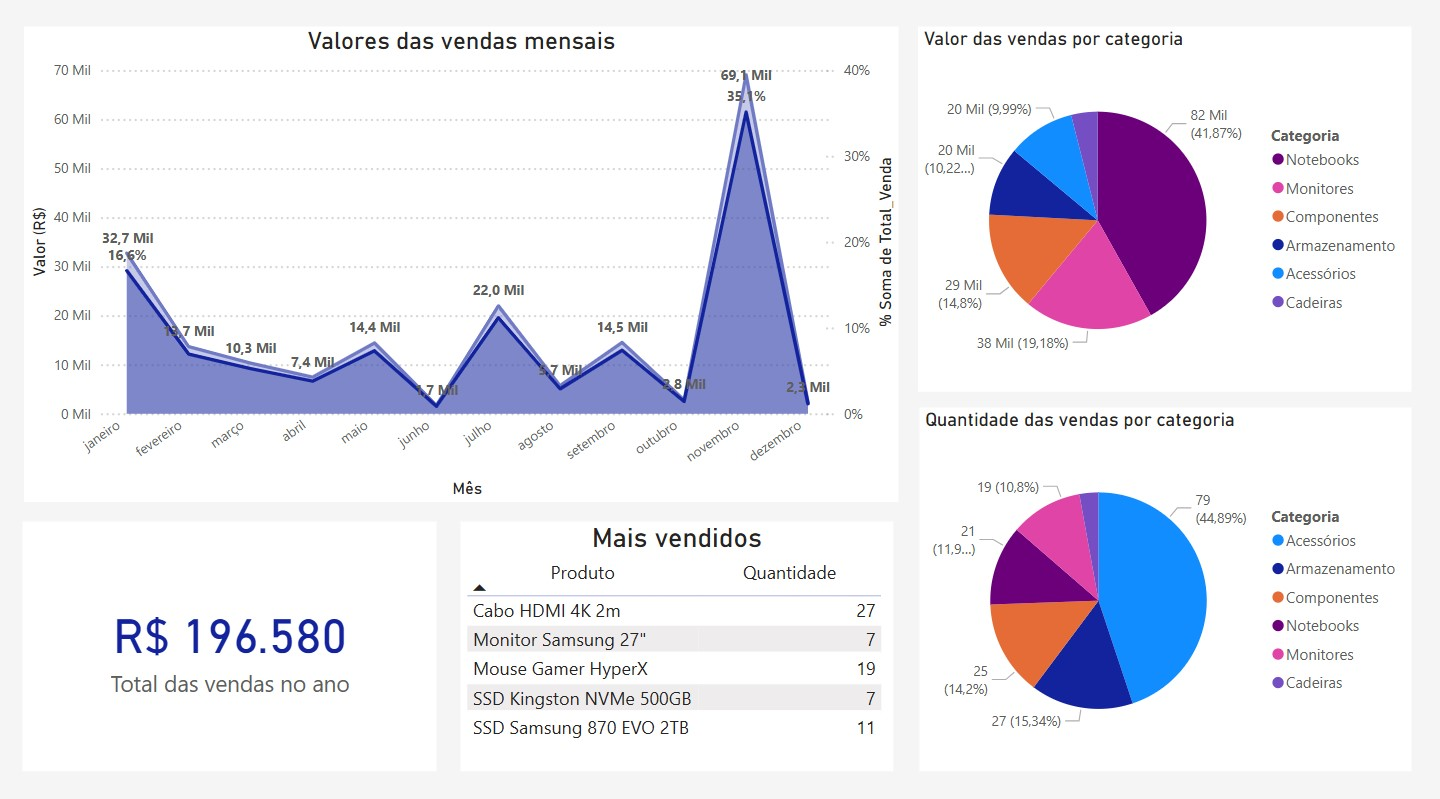

What the dashboard file says about the page in this screenshot:
{"tool":"powerbi","page":{"name":"Página 1","canvas":[1280,720],"ordinal":0},"visuals":[{"type":"lineChart","title":"Valores das vendas mensais","fields":{"Category":["dados_vendas.Data.Variation.Hierarquia de datas.Mês"],"Y":["Sum(dados_vendas.Total_Venda)"],"Y2":["Divide(Sum(dados_vendas.Total_Venda), ScopedEval(Sum(dados_vendas.Total_Venda), []))"]},"box":[20.9,30.8,777.6,422.8],"z":0},{"type":"pieChart","title":"Valor das vendas por categoria","fields":{"Category":["dados_vendas.Categoria"],"Y":["Sum(dados_vendas.Total_Venda)"]},"box":[816.1,30.8,438.9,324.7],"z":1000},{"type":"pieChart","title":"Quantidade das vendas por categoria","fields":{"Category":["dados_vendas.Categoria"],"Y":["Sum(dados_vendas.Quantidade)"]},"box":[817.4,369.6,437.6,323.4],"z":2000},{"type":"card","fields":{"Values":["Sum(dados_vendas.Total_Venda)"]},"box":[20.5,470.9,368.3,222],"z":3000},{"type":"tableEx","title":"Mais vendidos","fields":{"Values":["Top5Produtos.Produto","Sum(Top5Produtos.QuantidadeTotal)"]},"box":[409.3,470.9,385,222],"z":4000}]}

Visuals, with their boxes in screenshot pixels (x1, y1, x2, y2), scaled from the page's 1280x720 canvas onto the 1440x799 screenshot:
"Valores das vendas mensais" lineChart: bbox=(24, 34, 898, 503)
"Valor das vendas por categoria" pieChart: bbox=(918, 34, 1412, 395)
"Quantidade das vendas por categoria" pieChart: bbox=(920, 410, 1412, 769)
card - Sum(dados_vendas.Total_Venda): bbox=(23, 523, 437, 769)
"Mais vendidos" tableEx: bbox=(460, 523, 894, 769)
